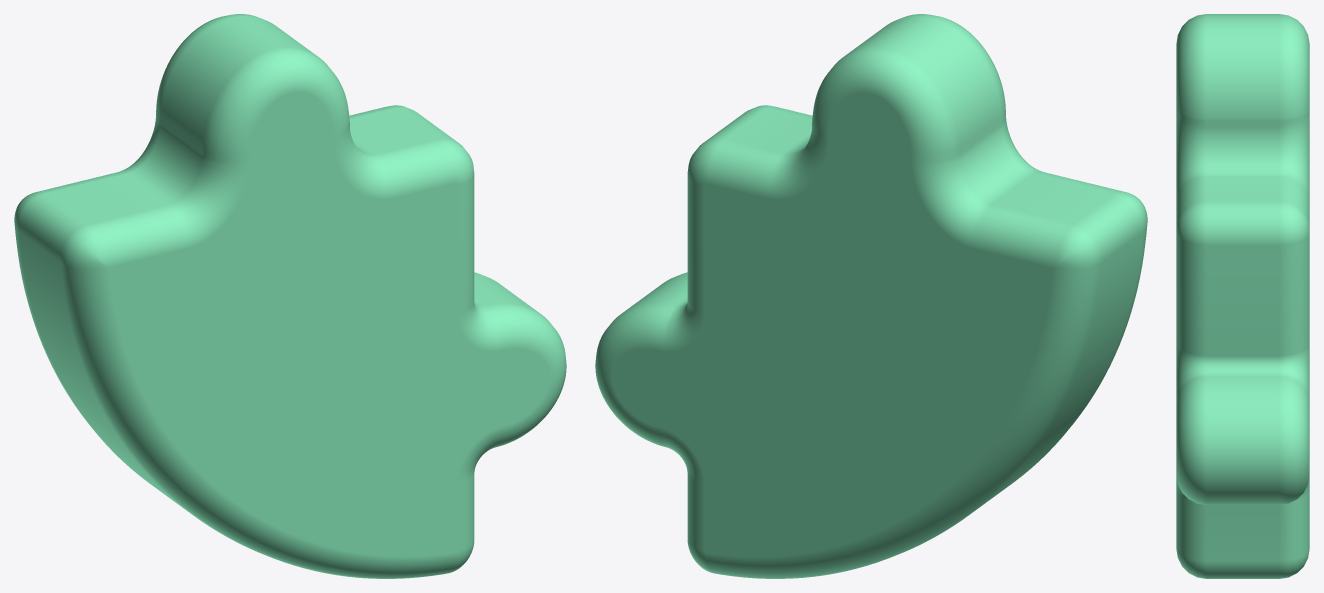
The model's file is green-puzzle.glb.
The picture shows the model from 3 angles, left to right: view 1: azimuth 30°, elevation 25°; view 2: azimuth 150°, elevation 25°; view 3: azimuth 270°, elevation 25°; orthographic projection. The views are drawn at different scales.
Visible parts, largest first — view 1: Shape 0.004; view 2: Shape 0.004; view 3: Shape 0.004.
Boxes of the visible parts, x1=… form: Shape 0.004: x1=14, y1=14, x2=566, y2=578; Shape 0.004: x1=595, y1=14, x2=1147, y2=578; Shape 0.004: x1=1176, y1=14, x2=1309, y2=578.
Bounding box in the file's own units: 2.05 × 2.2 × 0.5457.
